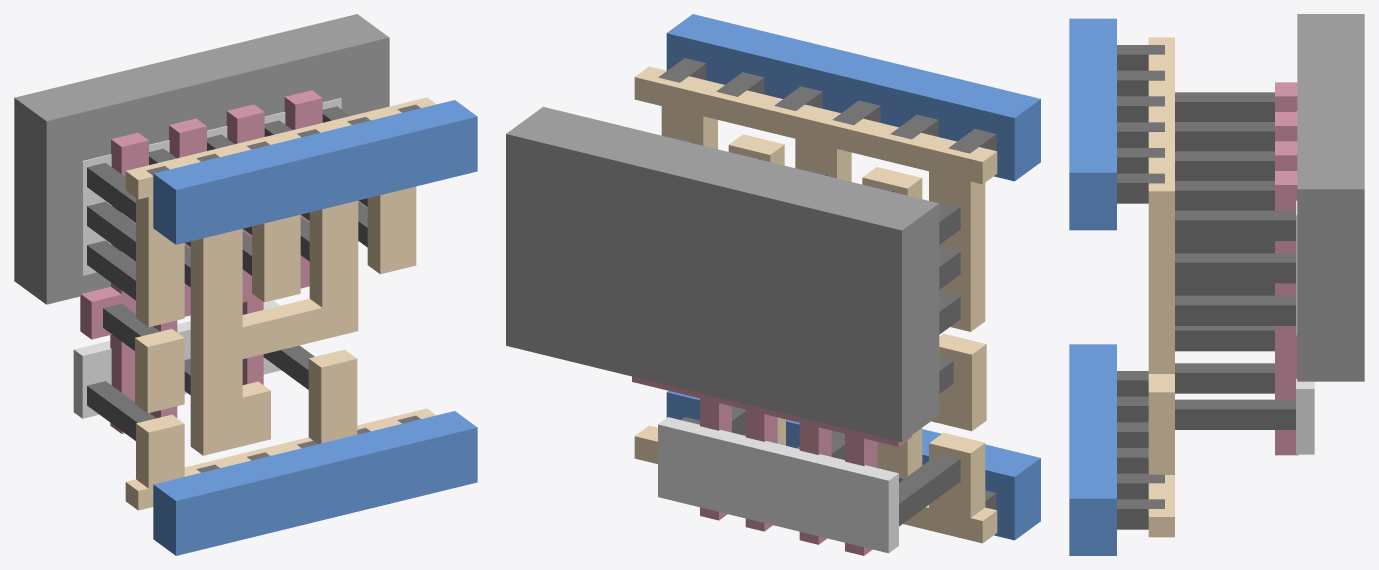
The model's file is sky130_fd_sc_hd__clkinvlp_4.gds.gltf.
3 views of the same model, side by side, from view 1: azimuth 30°, elevation 25°; view 2: azimuth 150°, elevation 25°; view 3: azimuth 270°, elevation 25° (orthographic). The views are drawn at different scales.
Visible parts, largest first — view 1: sky130_fd_sc_hd__clkinvlp_4_li1, sky130_fd_sc_hd__clkinvlp_4_met1, sky130_fd_sc_hd__clkinvlp_4_nwell, sky130_fd_sc_hd__clkinvlp_4_licon, sky130_fd_sc_hd__clkinvlp_4_poly, sky130_fd_sc_hd__clkinvlp_4_diff, sky130_fd_sc_hd__clkinvlp_4_mcon; view 2: sky130_fd_sc_hd__clkinvlp_4_nwell, sky130_fd_sc_hd__clkinvlp_4_li1, sky130_fd_sc_hd__clkinvlp_4_met1, sky130_fd_sc_hd__clkinvlp_4_diff, sky130_fd_sc_hd__clkinvlp_4_licon, sky130_fd_sc_hd__clkinvlp_4_poly, sky130_fd_sc_hd__clkinvlp_4_mcon; view 3: sky130_fd_sc_hd__clkinvlp_4_licon, sky130_fd_sc_hd__clkinvlp_4_nwell, sky130_fd_sc_hd__clkinvlp_4_met1, sky130_fd_sc_hd__clkinvlp_4_li1, sky130_fd_sc_hd__clkinvlp_4_mcon, sky130_fd_sc_hd__clkinvlp_4_poly, sky130_fd_sc_hd__clkinvlp_4_diff.
Boxes of the visible parts, x1=… form: sky130_fd_sc_hd__clkinvlp_4_li1: x1=125, y1=97, x2=436, y2=510; sky130_fd_sc_hd__clkinvlp_4_met1: x1=153, y1=100, x2=477, y2=555; sky130_fd_sc_hd__clkinvlp_4_nwell: x1=14, y1=14, x2=389, y2=304; sky130_fd_sc_hd__clkinvlp_4_licon: x1=87, y1=106, x2=367, y2=440; sky130_fd_sc_hd__clkinvlp_4_poly: x1=80, y1=90, x2=322, y2=433; sky130_fd_sc_hd__clkinvlp_4_diff: x1=73, y1=98, x2=341, y2=418; sky130_fd_sc_hd__clkinvlp_4_mcon: x1=146, y1=104, x2=420, y2=472; sky130_fd_sc_hd__clkinvlp_4_nwell: x1=506, y1=106, x2=939, y2=442; sky130_fd_sc_hd__clkinvlp_4_li1: x1=634, y1=66, x2=997, y2=543; sky130_fd_sc_hd__clkinvlp_4_met1: x1=666, y1=14, x2=1040, y2=540; sky130_fd_sc_hd__clkinvlp_4_diff: x1=658, y1=417, x2=898, y2=553; sky130_fd_sc_hd__clkinvlp_4_licon: x1=670, y1=136, x2=960, y2=526; sky130_fd_sc_hd__clkinvlp_4_poly: x1=632, y1=376, x2=911, y2=555; sky130_fd_sc_hd__clkinvlp_4_mcon: x1=658, y1=58, x2=996, y2=509; sky130_fd_sc_hd__clkinvlp_4_licon: x1=1175, y1=92, x2=1295, y2=429; sky130_fd_sc_hd__clkinvlp_4_nwell: x1=1297, y1=14, x2=1364, y2=381; sky130_fd_sc_hd__clkinvlp_4_met1: x1=1069, y1=18, x2=1116, y2=555; sky130_fd_sc_hd__clkinvlp_4_li1: x1=1148, y1=37, x2=1174, y2=537; sky130_fd_sc_hd__clkinvlp_4_mcon: x1=1117, y1=45, x2=1164, y2=529; sky130_fd_sc_hd__clkinvlp_4_poly: x1=1275, y1=82, x2=1298, y2=455; sky130_fd_sc_hd__clkinvlp_4_diff: x1=1296, y1=111, x2=1314, y2=454.
Size of the model in its own units: 3.14 by 3.2 by 2.24.
